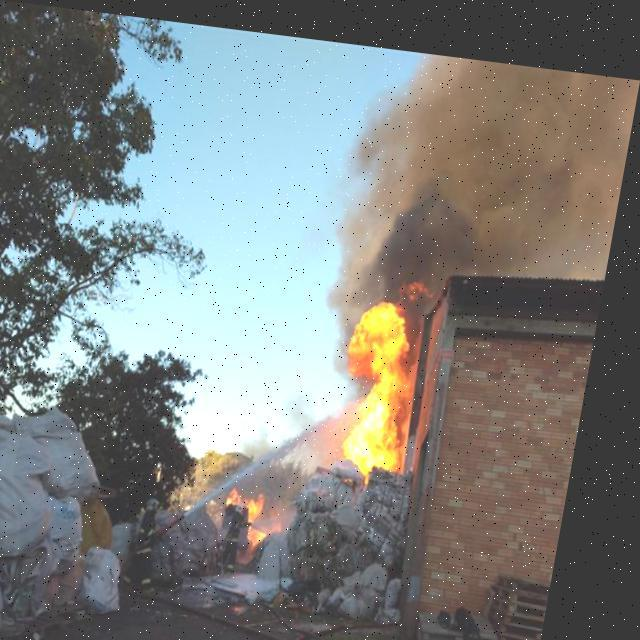Fire: (339, 288, 444, 462), (232, 476, 290, 538)
